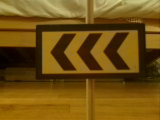left: (37, 25, 145, 78)
